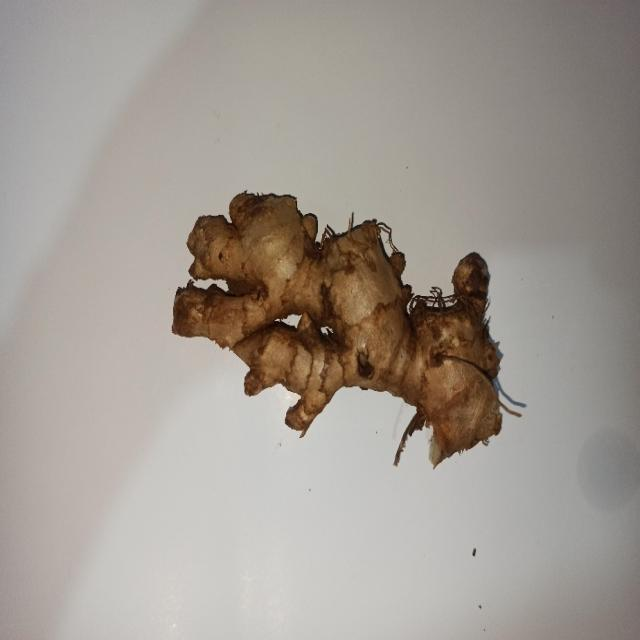ginger: (168, 189, 504, 462)
